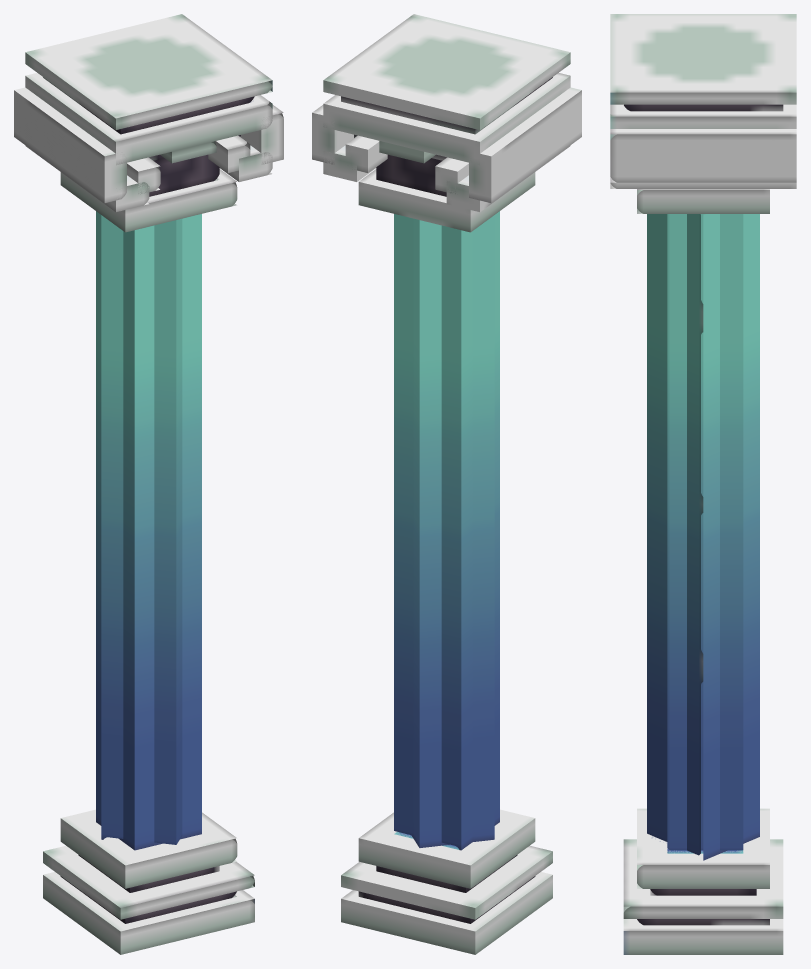
Rendered from ionico.geo.obj.
3 views of the same model, side by side, from view 1: azimuth 30°, elevation 25°; view 2: azimuth 150°, elevation 25°; view 3: azimuth 270°, elevation 25° (orthographic). The views are drawn at different scales.
Parts seen in each view (by area): view 1: bb_main; view 2: bb_main; view 3: bb_main.
Part boxes in pixels (bbox=[...]): bb_main: bbox=[14, 14, 283, 954]; bb_main: bbox=[312, 14, 581, 954]; bb_main: bbox=[610, 14, 796, 954].
Bounding box in the file's own units: 1 × 4.5 × 0.875.
1 material, 1 textured.
